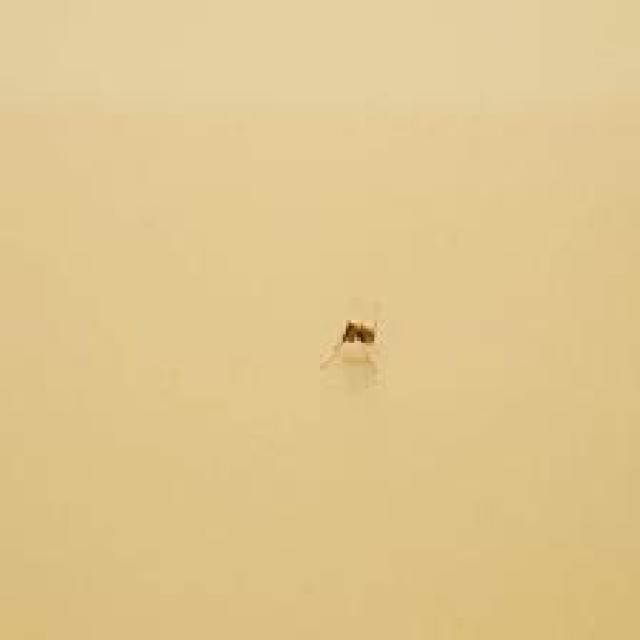Culex: (319, 314, 384, 377)
